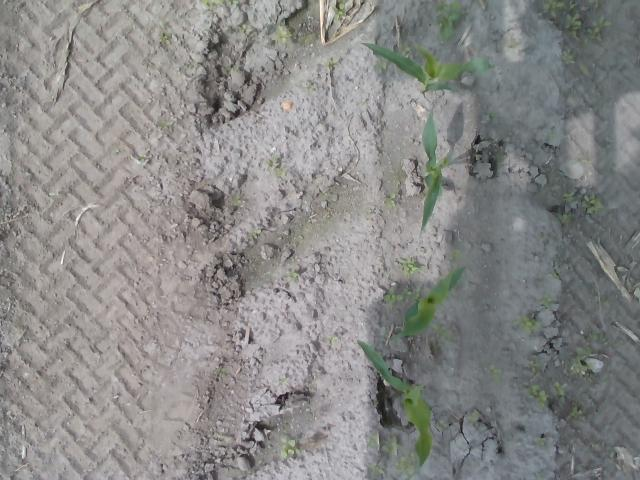Maize: (356, 338, 434, 470), (361, 41, 478, 97), (389, 265, 468, 337), (418, 107, 446, 230)
Weeds: (540, 0, 612, 43), (367, 432, 415, 476), (559, 191, 604, 224), (574, 329, 626, 354), (434, 2, 463, 44), (528, 380, 564, 412), (382, 286, 420, 302), (278, 435, 300, 459), (200, 0, 240, 11), (518, 314, 539, 334), (568, 354, 589, 374), (332, 0, 350, 21), (275, 25, 292, 45), (432, 320, 450, 338), (486, 362, 500, 384), (399, 258, 421, 272), (528, 354, 540, 376), (561, 48, 576, 64), (382, 191, 396, 208), (468, 58, 490, 68), (398, 40, 411, 56), (569, 404, 583, 418), (448, 250, 464, 262), (246, 229, 261, 240), (376, 60, 388, 73), (436, 420, 450, 431), (160, 32, 170, 46), (240, 24, 254, 34), (468, 414, 478, 427), (536, 436, 546, 447), (288, 271, 298, 281), (544, 296, 552, 308), (233, 195, 241, 206), (137, 158, 145, 169), (488, 112, 497, 120)
